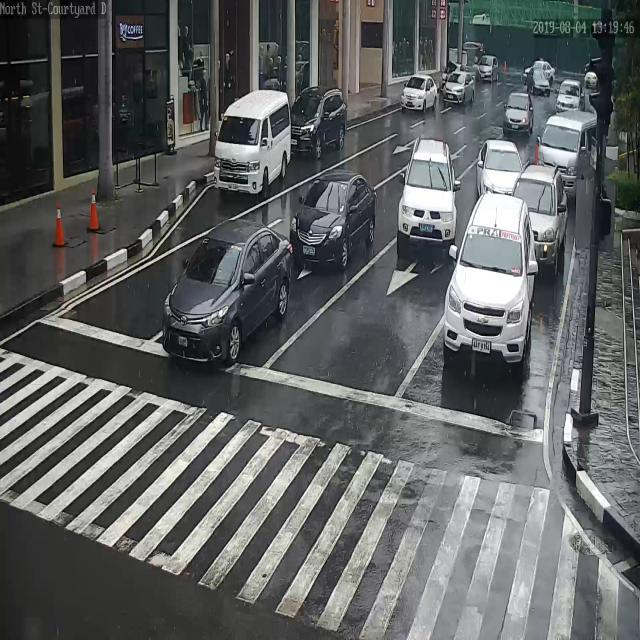car: (162, 224, 293, 365), (443, 192, 536, 371), (292, 170, 377, 266), (398, 138, 457, 256), (514, 166, 568, 277), (288, 86, 346, 155), (477, 139, 523, 197), (503, 92, 534, 138), (401, 74, 437, 112), (442, 70, 475, 102), (555, 80, 584, 114), (523, 60, 555, 85), (439, 63, 464, 93), (527, 68, 550, 96), (477, 55, 498, 83), (584, 72, 598, 89)
van: (213, 89, 291, 195), (536, 113, 599, 199)
